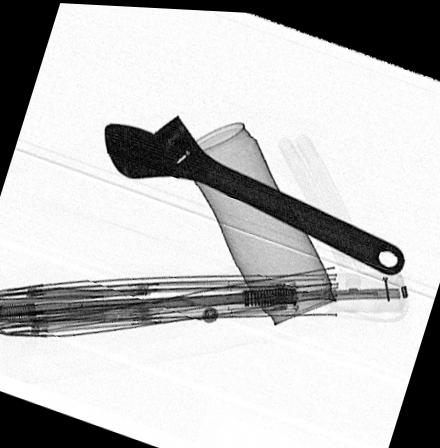Wrench: (102, 113, 406, 271)
